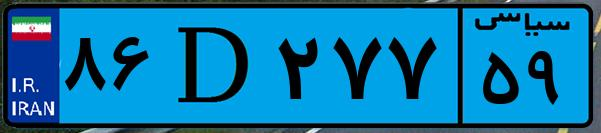2: (270, 28, 330, 110)
5: (475, 38, 525, 113)
6: (110, 28, 158, 98)
7: (385, 28, 445, 110), (330, 28, 385, 110)
8: (57, 26, 110, 100)
9: (525, 38, 570, 115)
D: (158, 12, 270, 120)
